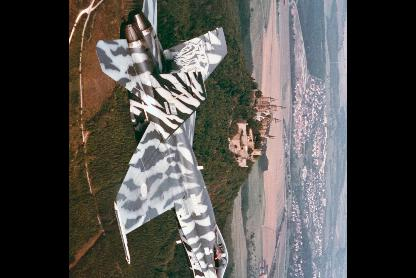F15: (96, 0, 229, 277)
